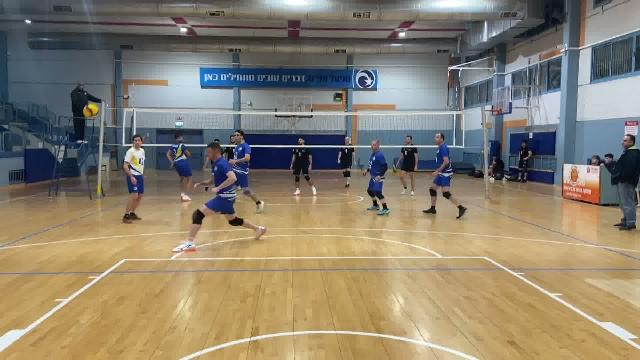ball: (80, 103, 100, 121)
